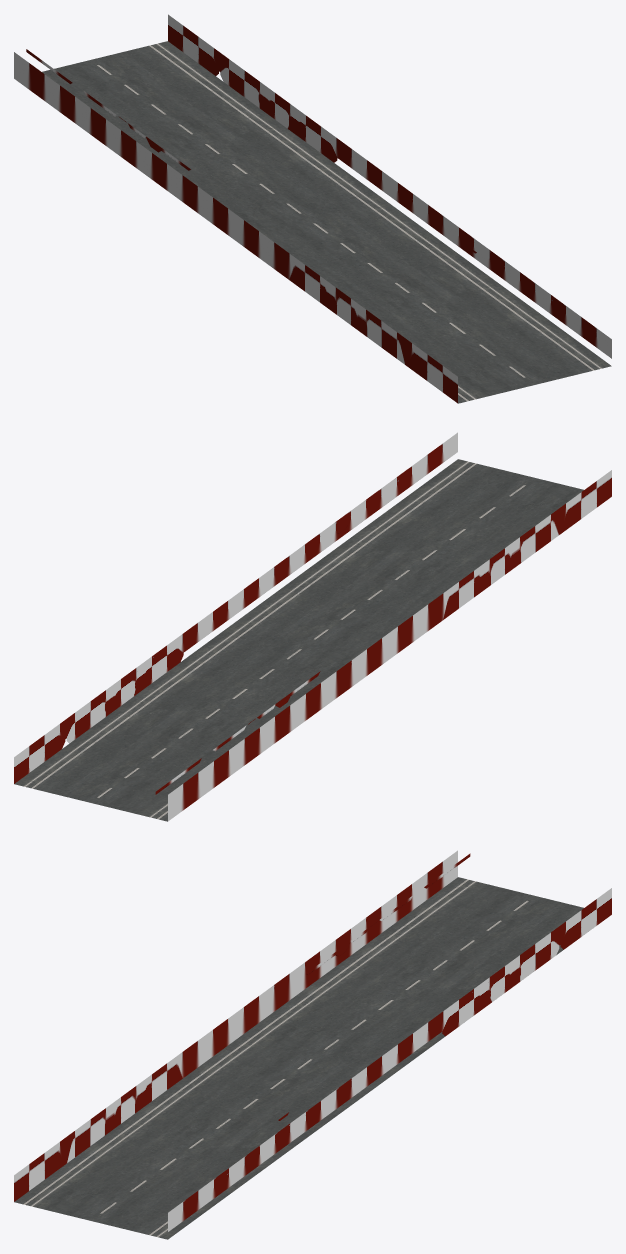
File: startstraight1.fbx
3 views of the same model, one above another, from view 1: azimuth 30°, elevation 25°; view 2: azimuth 150°, elevation 25°; view 3: azimuth 330°, elevation 25° (orthographic).
Parts seen in each view (by area): view 1: Plane.002; view 2: Plane.002; view 3: Plane.002.
Part boxes in pixels (bbox=[...]): Plane.002: bbox=[14, 14, 611, 403]; Plane.002: bbox=[14, 432, 611, 821]; Plane.002: bbox=[14, 850, 611, 1239].
Bounding box in the file's own units: 600 × 100 × 3000.
